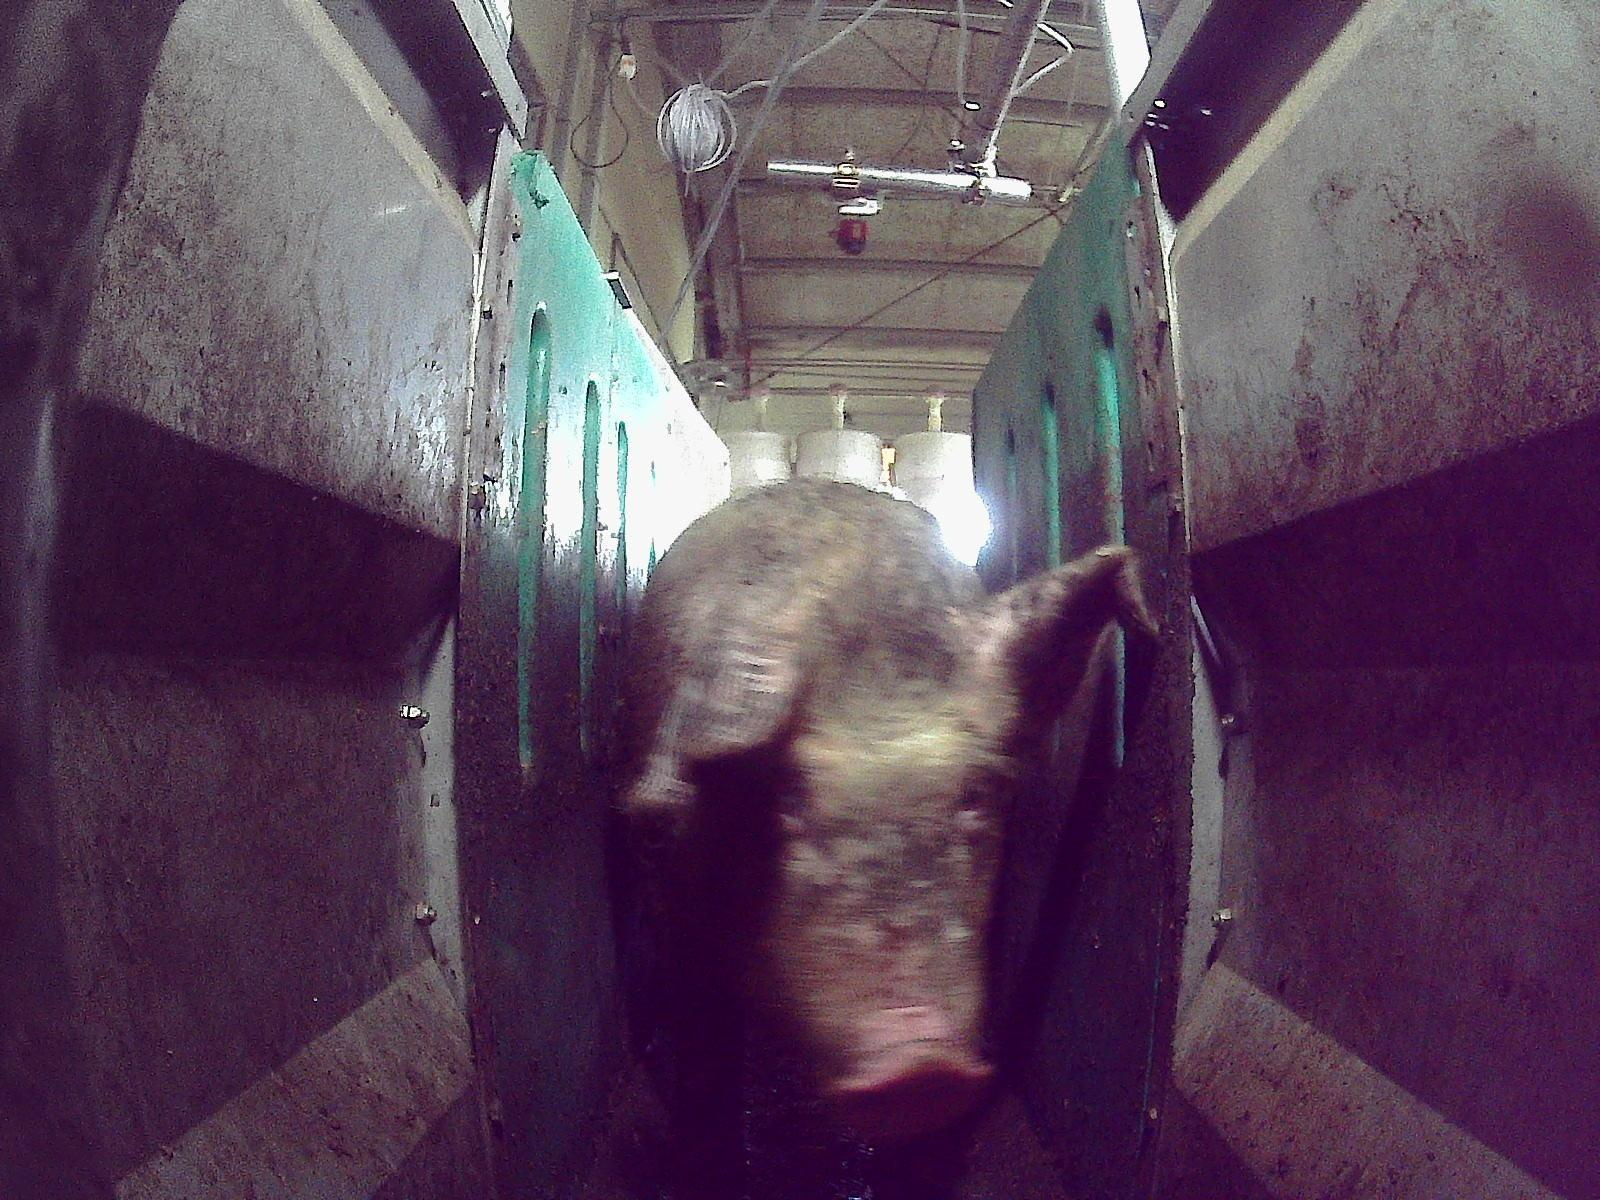Face: (686, 609, 1018, 1146)
